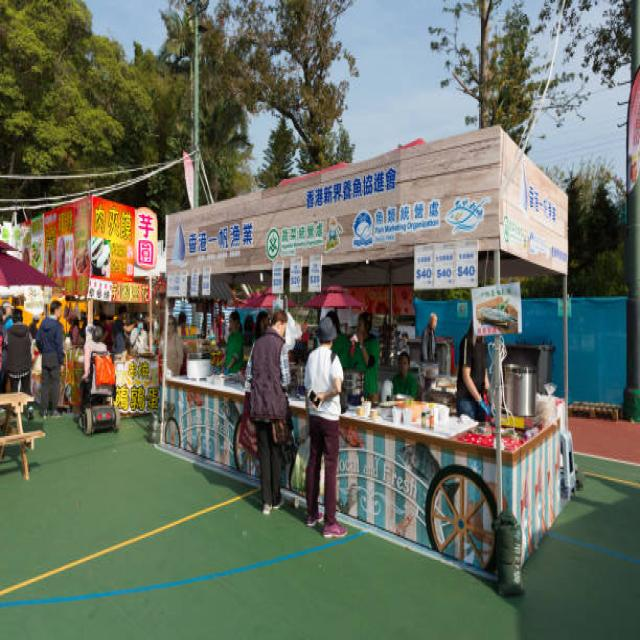Emperan: (120, 120, 597, 599)
